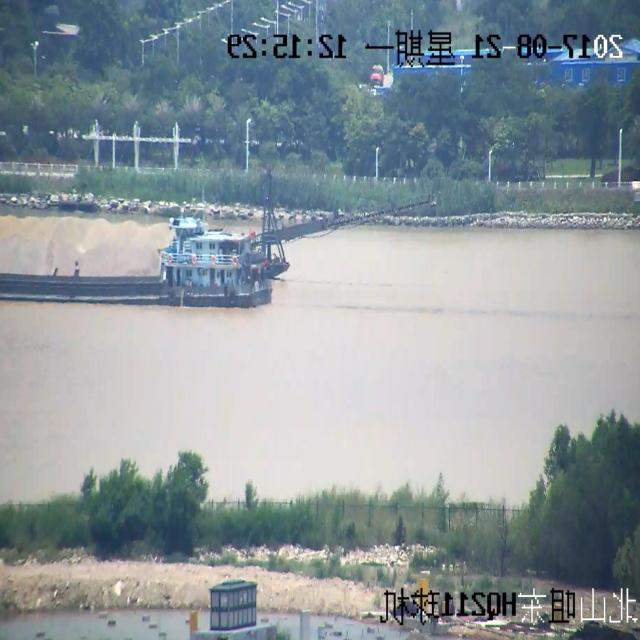cargoship: (0, 196, 307, 332)
